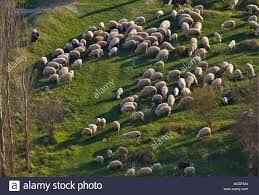sheep: (139, 86, 158, 99), (135, 42, 149, 58), (196, 125, 212, 138), (122, 131, 142, 141), (133, 78, 151, 89), (245, 63, 257, 79), (48, 73, 62, 86), (191, 9, 204, 23), (106, 160, 122, 171), (167, 69, 181, 81), (155, 47, 169, 59), (57, 73, 72, 84), (249, 20, 258, 38), (70, 59, 83, 71), (108, 37, 121, 49), (42, 66, 56, 77), (222, 19, 236, 30), (188, 26, 201, 37), (88, 49, 102, 59), (120, 105, 137, 113), (156, 106, 171, 115), (81, 127, 92, 139), (162, 41, 174, 52), (50, 47, 63, 57), (133, 16, 146, 26), (112, 120, 121, 134), (122, 40, 136, 49), (107, 46, 118, 57), (143, 68, 154, 79), (68, 49, 80, 59), (159, 20, 172, 29), (115, 86, 123, 100), (136, 167, 152, 174), (167, 94, 175, 108), (202, 36, 210, 49), (161, 86, 168, 100), (228, 39, 236, 51), (186, 75, 193, 88), (195, 65, 202, 78), (108, 18, 117, 28), (235, 68, 243, 79), (95, 156, 104, 165), (86, 30, 94, 40), (181, 21, 188, 32), (65, 42, 73, 51), (73, 38, 79, 46), (98, 22, 104, 29)
